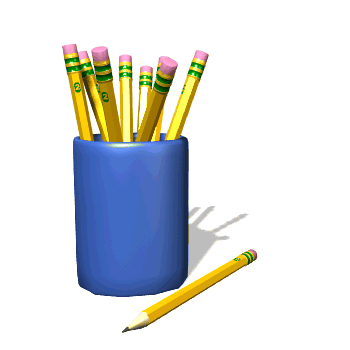pen_tip: (117, 310, 168, 336)
